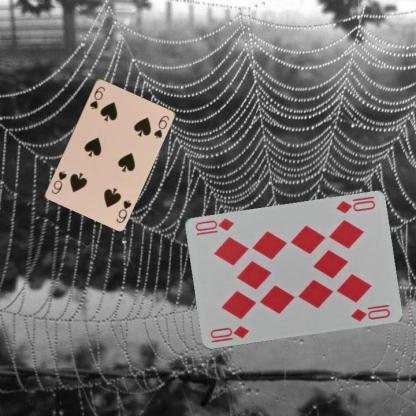10d: (208, 324, 250, 344), (334, 198, 376, 216)
6s: (114, 197, 132, 224), (88, 84, 106, 110)
